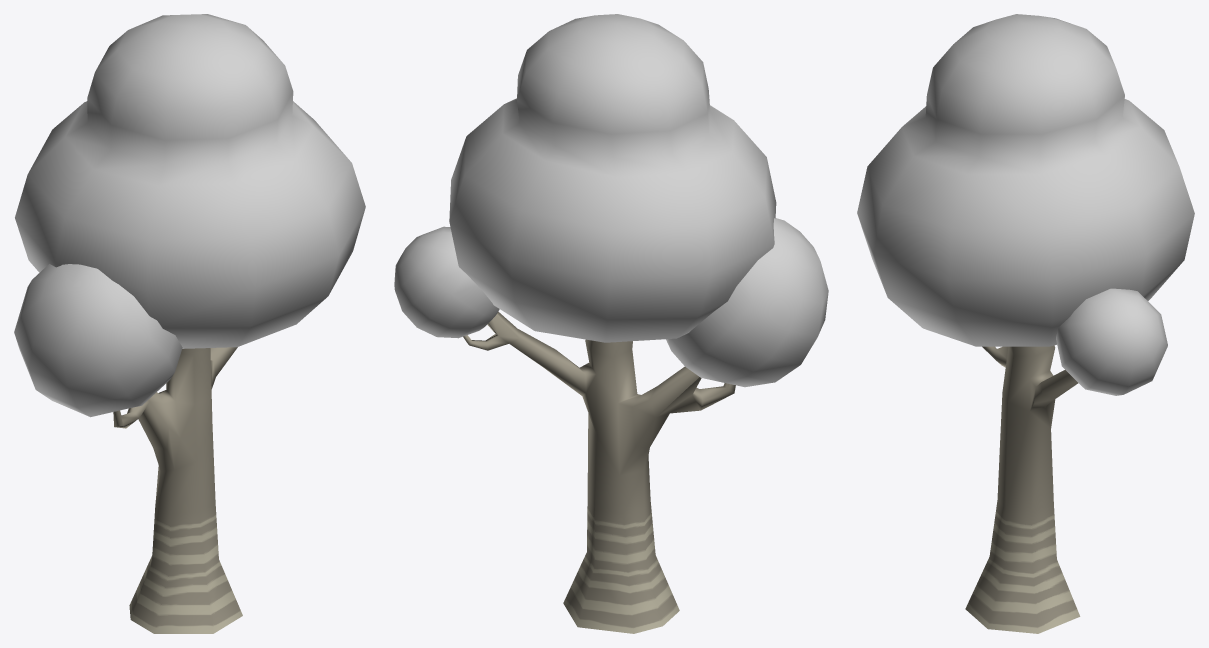
The model's file is S_Tree_H.fbx.
3 views of the same model, side by side, from view 1: azimuth 30°, elevation 25°; view 2: azimuth 150°, elevation 25°; view 3: azimuth 270°, elevation 25° (orthographic).
Parts seen in each view (by area): view 1: S_Tree_H_m; view 2: S_Tree_H_m; view 3: S_Tree_H_m.
Boxes of the visible parts, left/top/right/bottom form: S_Tree_H_m: left=14, top=14, right=365, bottom=633; S_Tree_H_m: left=394, top=14, right=828, bottom=633; S_Tree_H_m: left=857, top=14, right=1194, bottom=633.
Size of the model in its own units: 45.44 by 72.17 by 37.6.
